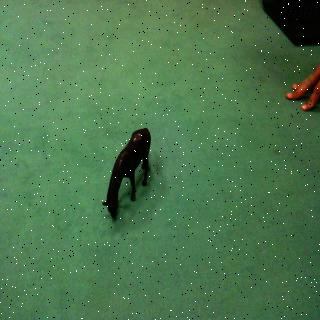horse: (99, 119, 155, 225)
